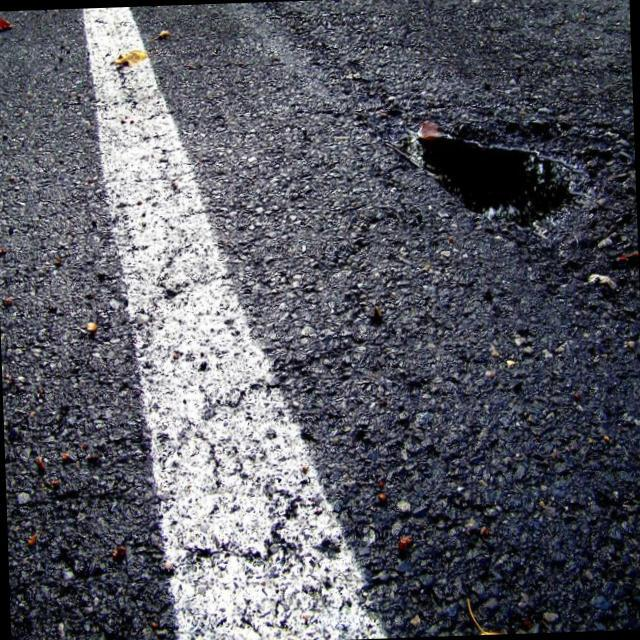Pothole: (372, 61, 620, 290)
